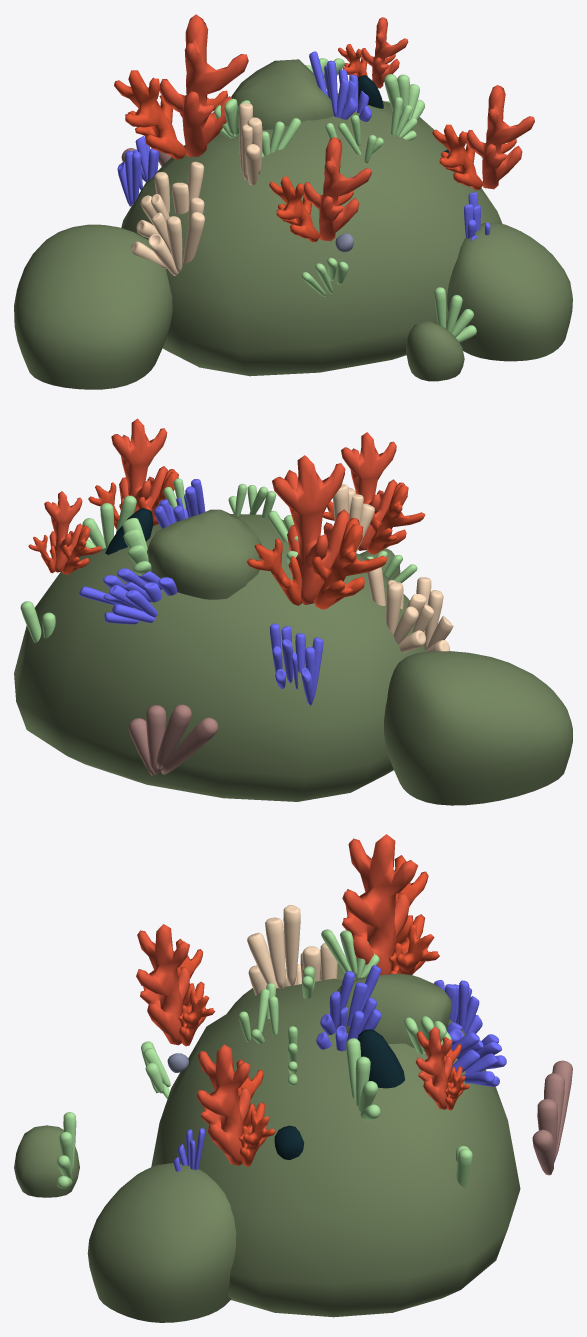
The model's file is redcorals_rockscene1.gltf.
3 renders of one model, top to bottom at view 1: azimuth 30°, elevation 25°; view 2: azimuth 150°, elevation 25°; view 3: azimuth 270°, elevation 25°, orthographic. The views are drawn at different scales.
Visible parts, largest first — view 1: Sand, Rock, Rock.001, Coral.001, Coral.003, Coral.002, Rock 6, Rock.002, Coral.004, Cube 14.013, Cube 13.014, Cube 12.027 (+4 smaller); view 2: Sand, Rock, Coral.001, Rock 6, Coral.002, Coral.003, Coral.004, Cube 14.002, Cube 13.002, Cube 12.005, Rock 9, Cube 12.004 (+6 smaller); view 3: Sand, Rock.001, Coral.001, Coral.003, Coral.002, Rock 6, Rock.002, Coral.004, Rock 9, Cube 14.006, Cube 13.006, Rock 3 (+5 smaller).
Part boxes in pixels (x1,y1,x2,y2): Sand: (121,93,502,376); Rock: (14,224,172,389); Rock.001: (447,222,572,361); Coral.001: (114,14,248,159); Coral.003: (432,85,534,190); Coral.002: (269,137,371,242); Rock 6: (231,59,333,129); Rock.002: (406,321,464,381); Coral.004: (338,17,408,88); Cube 14.013: (183,212,204,263); Cube 13.014: (166,216,182,273); Cube 12.027: (148,234,177,275); Sand: (14,514,425,801); Rock: (384,651,572,805); Coral.001: (246,455,387,609); Rock 6: (147,509,261,599); Coral.002: (322,432,425,554); Coral.003: (88,418,186,528); Coral.004: (28,491,101,574); Cube 14.002: (160,717,218,774); Cube 13.002: (156,704,191,768); Cube 12.005: (146,705,166,773); Rock 9: (105,508,153,554); Cube 12.004: (128,718,157,775); Sand: (151,978,520,1317); Rock.001: (87,1163,236,1322); Coral.001: (342,834,439,976); Coral.003: (196,1044,275,1166); Coral.002: (136,924,215,1046); Rock 6: (337,973,451,1048); Rock.002: (14,1125,79,1197); Coral.004: (415,1026,469,1110); Rock 9: (358,1029,404,1088); Cube 14.006: (283,905,300,985); Cube 13.006: (265,917,285,989); Rock 3: (274,1125,304,1159).
Size of the model in its own units: 15.21 by 9.22 by 13.51.
